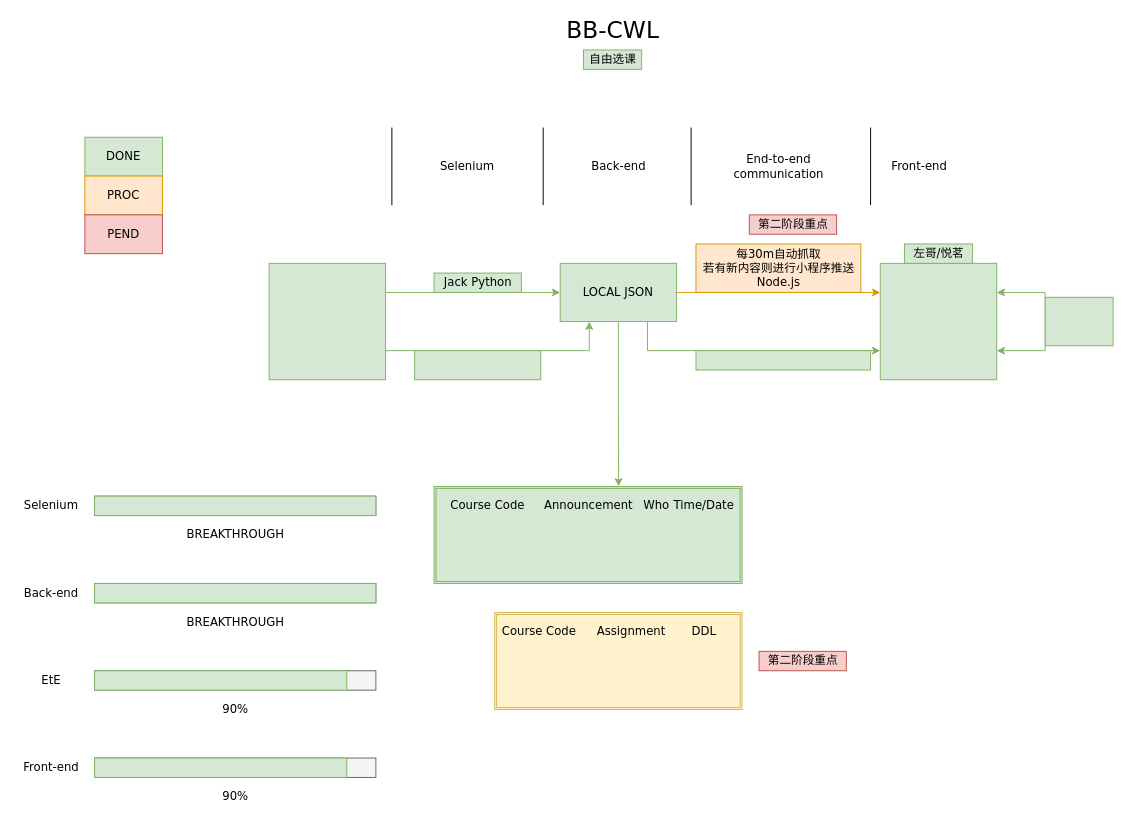
This 1130x824 diagram has some shape labels left out. Here are the shapes that lost their labels. From the top down, the centre of each, then its label:
At point (327, 321): "BlackBoard 数据库".
At point (938, 321): "前端 Vue.js".
At point (1078, 321): "页面自联 javascript 靖元".
At point (477, 365): "每30m推送一次 Jack+Lyon Python".
At point (783, 360): "用户访问时显示MySQL中数据".
